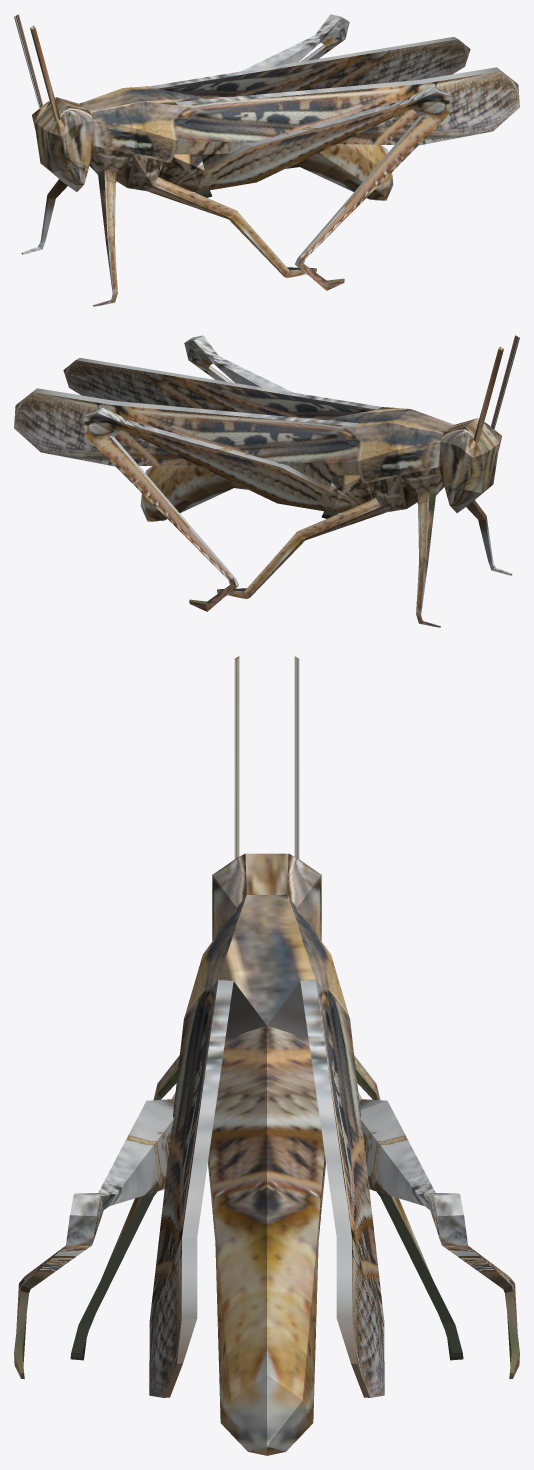
The model's file is grasshopper.glb.
3 views of the same model, one above another, from view 1: azimuth 30°, elevation 25°; view 2: azimuth 150°, elevation 25°; view 3: azimuth 270°, elevation 25° (orthographic). The views are drawn at different scales.
Parts seen in each view (by area): view 1: Cricket; view 2: Cricket; view 3: Cricket.
Boxes of the visible parts, box(x1,y1,x2,y2) form: Cricket: box(14, 14, 519, 306); Cricket: box(14, 335, 519, 627); Cricket: box(14, 656, 519, 1455).
Bounding box in the file's own units: 0.5309 × 0.2977 × 0.2713.
Materials: 1 (1 with a texture image).
